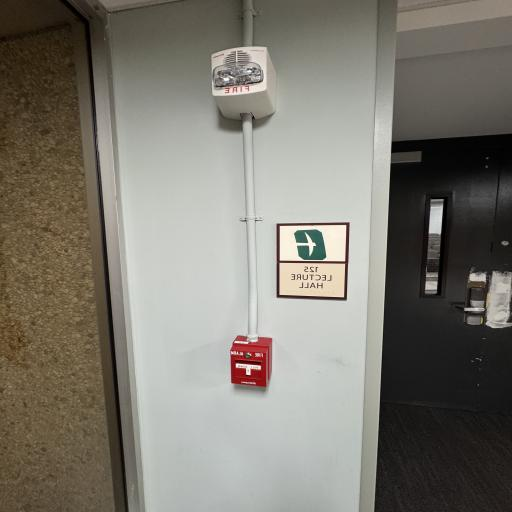doors: (386, 136, 510, 421)
fire alarm: (219, 332, 278, 394)
fire alarm signal: (204, 39, 279, 127)
room 125 sign: (273, 217, 354, 302)
